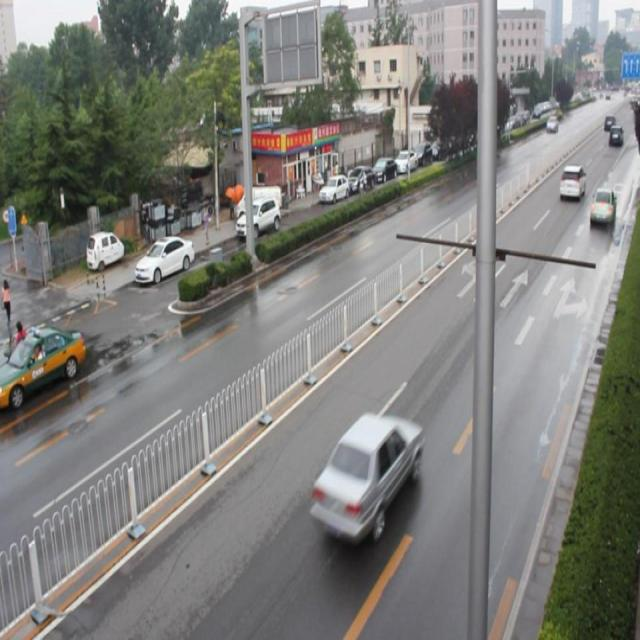car: (309, 413, 423, 540), (589, 186, 615, 230), (558, 164, 584, 202)
